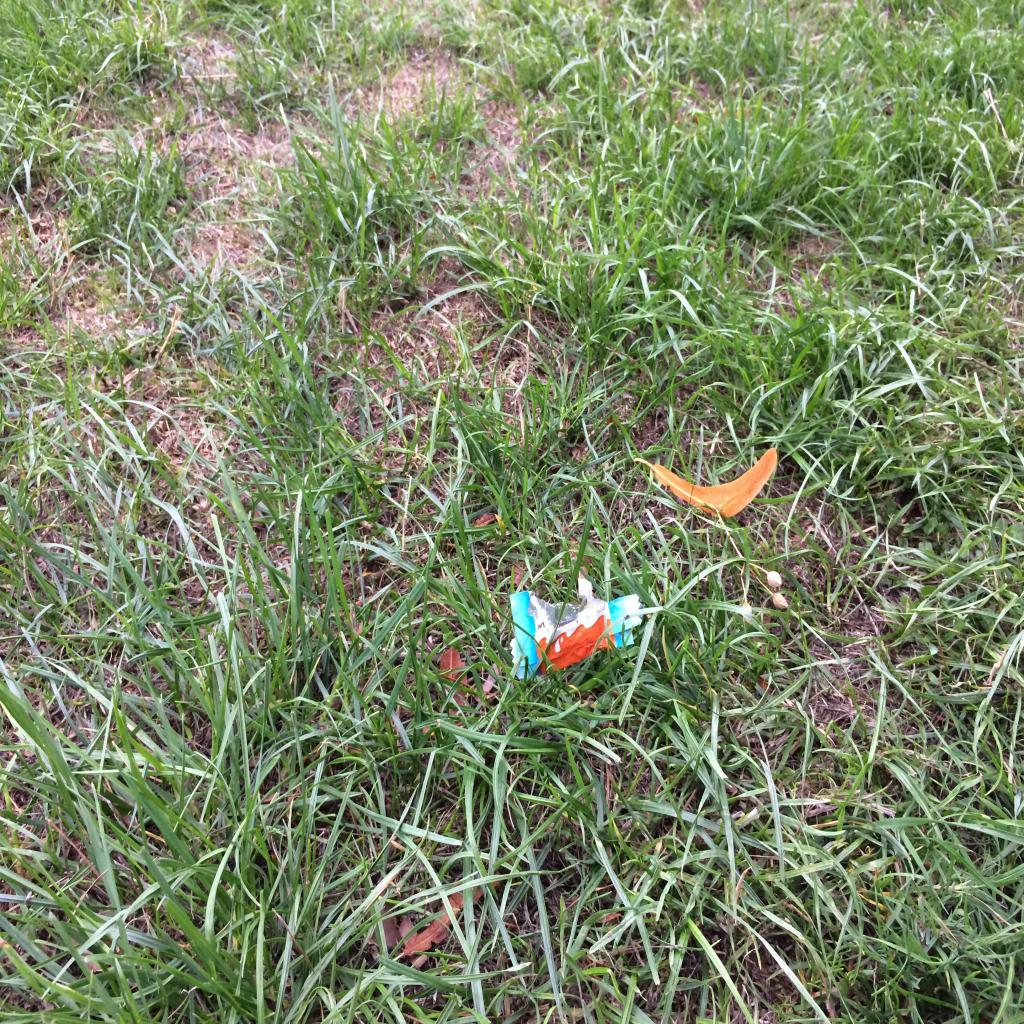Other plastic: (510, 578, 642, 678)
